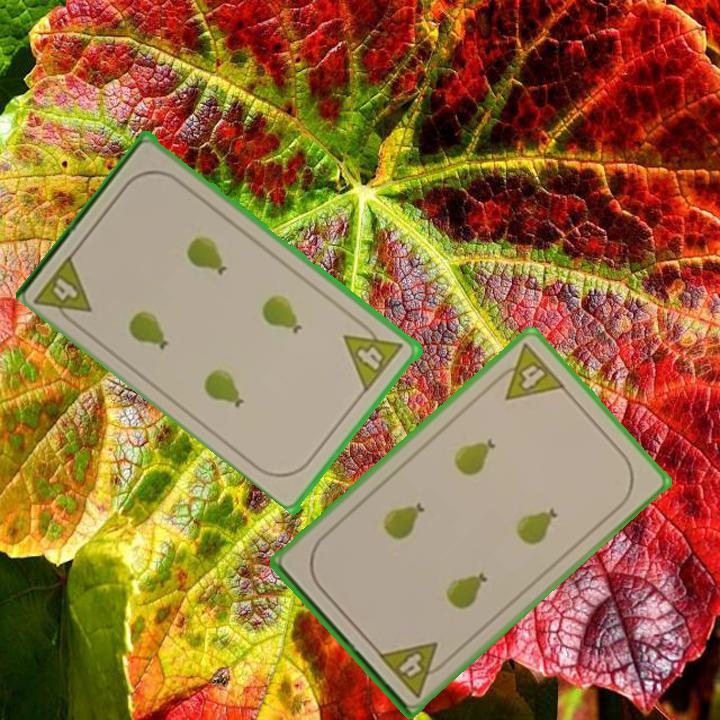4p: (31, 249, 96, 331), (341, 316, 407, 394), (374, 637, 453, 701), (488, 340, 568, 403)
